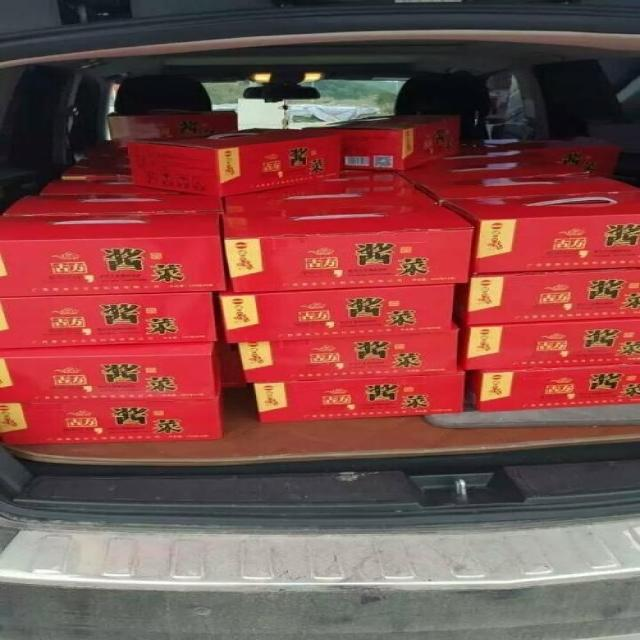box: (220, 202, 476, 293), (0, 210, 227, 296), (444, 191, 640, 276), (127, 129, 342, 199), (218, 284, 457, 343), (0, 343, 224, 402), (0, 292, 215, 351), (238, 331, 461, 384), (253, 374, 467, 425), (456, 268, 640, 326), (0, 398, 221, 445), (461, 317, 640, 371), (302, 115, 458, 172), (465, 364, 640, 414), (106, 109, 238, 166), (413, 173, 640, 204), (219, 183, 443, 212), (401, 155, 591, 182), (0, 194, 225, 215), (498, 140, 618, 178), (41, 180, 223, 199), (275, 169, 413, 186), (429, 143, 538, 160), (60, 158, 131, 182), (216, 342, 246, 387)
